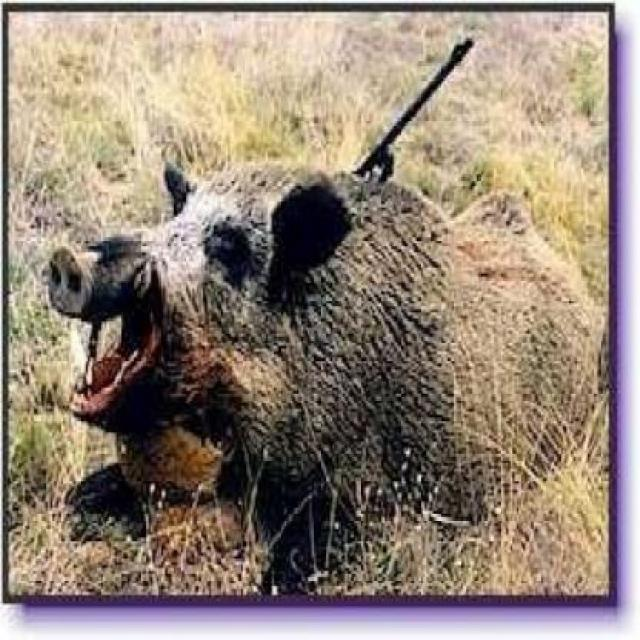pig: (16, 128, 640, 590)
